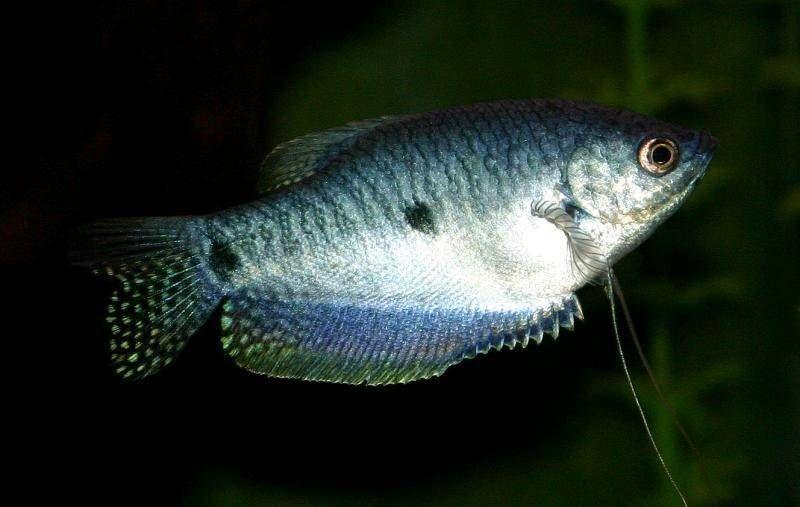Gourami: (72, 105, 720, 394)
